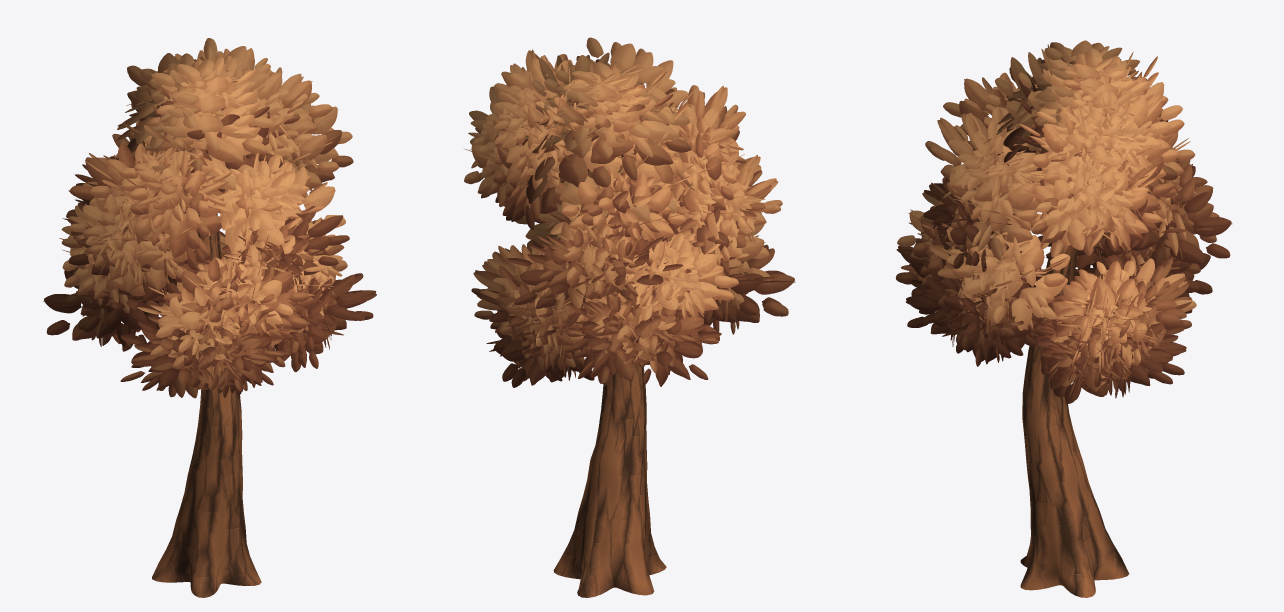
The model's file is tree_oak_autumn.glb.
3 views of the same model, side by side, from view 1: azimuth 30°, elevation 25°; view 2: azimuth 150°, elevation 25°; view 3: azimuth 270°, elevation 25° (orthographic). The views are drawn at different scales.
Visible parts, largest first — view 1: Canopy, tree_oak_autumn; view 2: Canopy, tree_oak_autumn; view 3: Canopy, tree_oak_autumn.
Boxes of the visible parts, x1=… form: Canopy: x1=43, y1=38, x2=376, y2=398; tree_oak_autumn: x1=152, y1=152, x2=261, y2=597; Canopy: x1=464, y1=37, x2=795, y2=387; tree_oak_autumn: x1=553, y1=213, x2=666, y2=597; Canopy: x1=896, y1=40, x2=1232, y2=403; tree_oak_autumn: x1=1020, y1=246, x2=1129, y2=597.
Bounding box in the file's own units: 1.46 × 2.3 × 1.57.
Materials: 2 (2 with a texture image).
